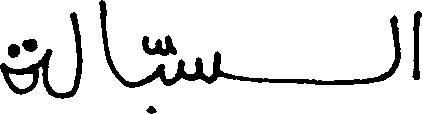X: (0, 34, 35, 99), (181, 47, 216, 88), (101, 0, 116, 82), (72, 7, 80, 101), (413, 6, 421, 84), (393, 10, 399, 78), (157, 34, 164, 89)
